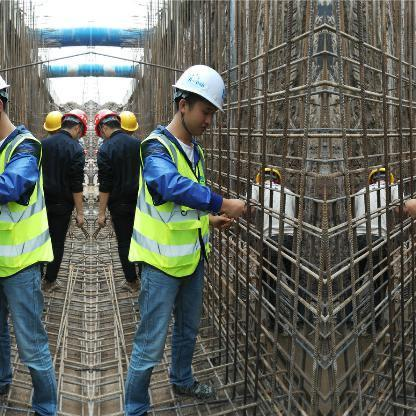helmet: (168, 64, 226, 113), (91, 108, 120, 141), (253, 164, 284, 189), (116, 110, 144, 135)
